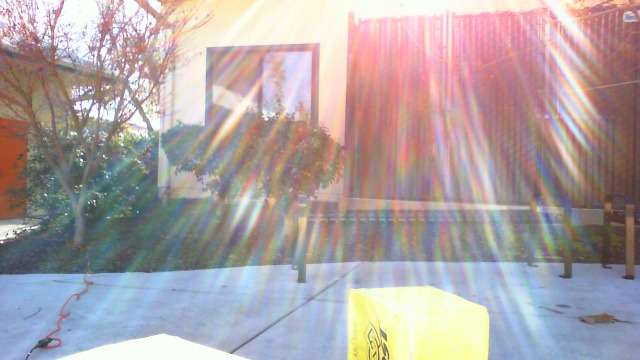cube: (342, 287, 489, 360), (48, 332, 262, 360)
